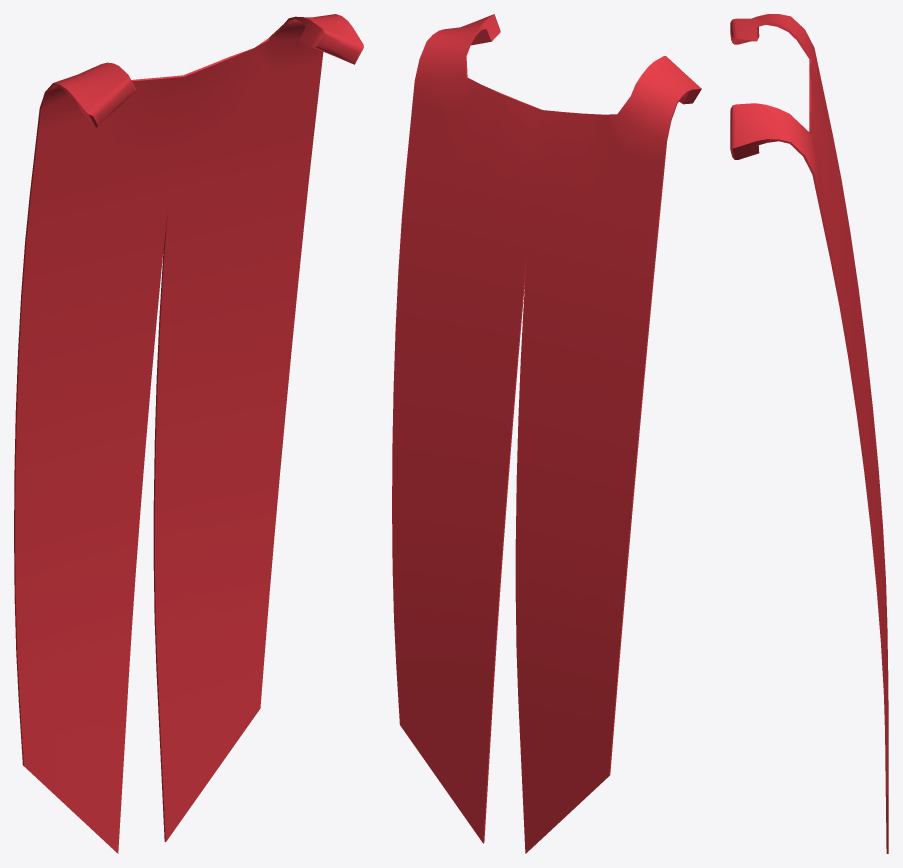
The model's file is Enemigo02_v2CapeLow.fbx.
3 renders of one model, left to right at view 1: azimuth 30°, elevation 25°; view 2: azimuth 150°, elevation 25°; view 3: azimuth 270°, elevation 25°, orthographic. The views are drawn at different scales.
Parts seen in each view (by area): view 1: CapeLow; view 2: CapeLow; view 3: CapeLow.
Part boxes in pixels (left/top/right/bottom): CapeLow: left=14, top=14, right=363, bottom=853; CapeLow: left=392, top=14, right=701, bottom=853; CapeLow: left=730, top=14, right=888, bottom=853.
Bounding box in the file's own units: 132 × 383 × 70.29.
